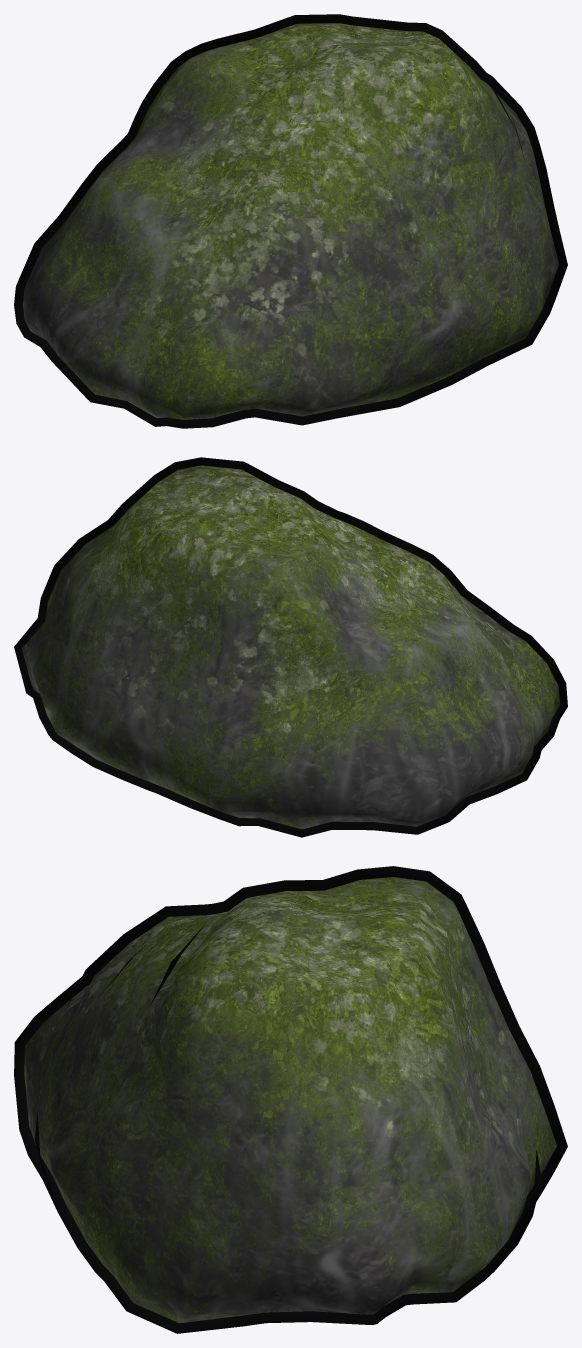
The model's file is Rock2.fbx.
3 views of the same model, one above another, from view 1: azimuth 30°, elevation 25°; view 2: azimuth 150°, elevation 25°; view 3: azimuth 270°, elevation 25° (orthographic). The views are drawn at different scales.
Parts seen in each view (by area): view 1: Rock2; view 2: Rock2; view 3: Rock2.
Boxes of the visible parts, box(x1,y1,x2,y2) form: Rock2: box(14, 14, 567, 428); Rock2: box(14, 457, 567, 837); Rock2: box(14, 866, 567, 1333).
Size of the model in its own units: 197 by 116 by 153.
